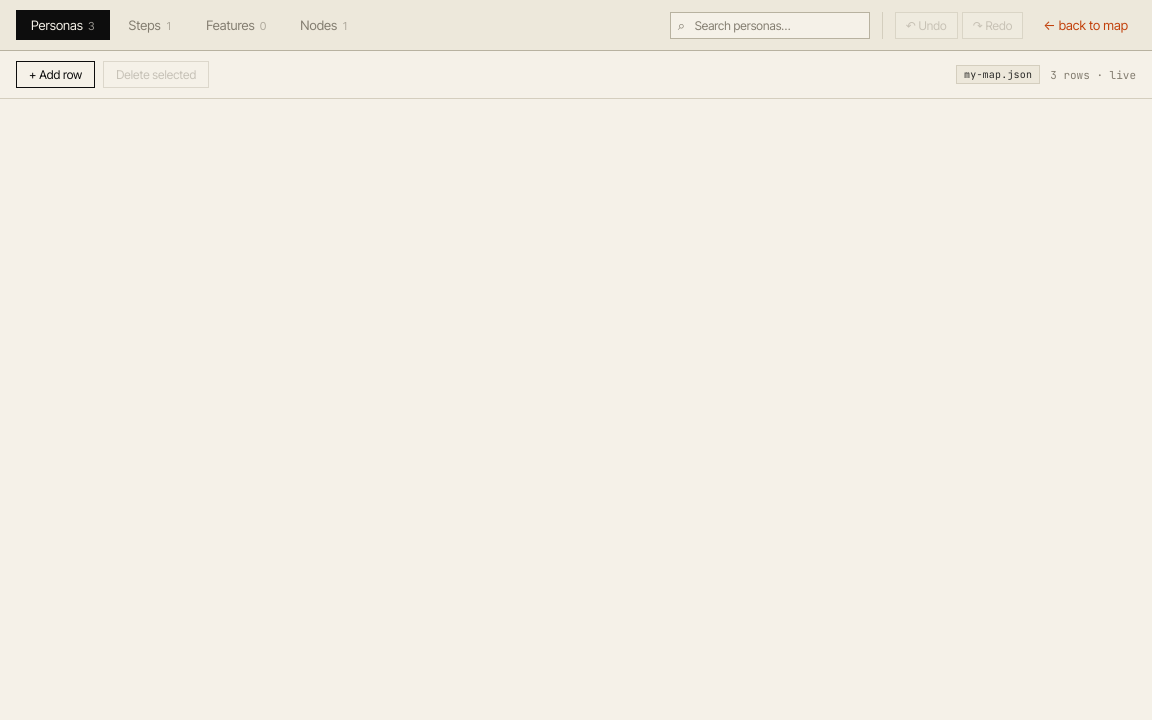
Test case: DatabasePanel grid search › shows a source chip naming the file each tab edits (map vs features)
Check: the text titled "written to my-map.json" is shown, box [956,65,1040,84]
Note: Features → the features datatable
Click the button "Features0": x=236, y=25 [191,10,281,40]
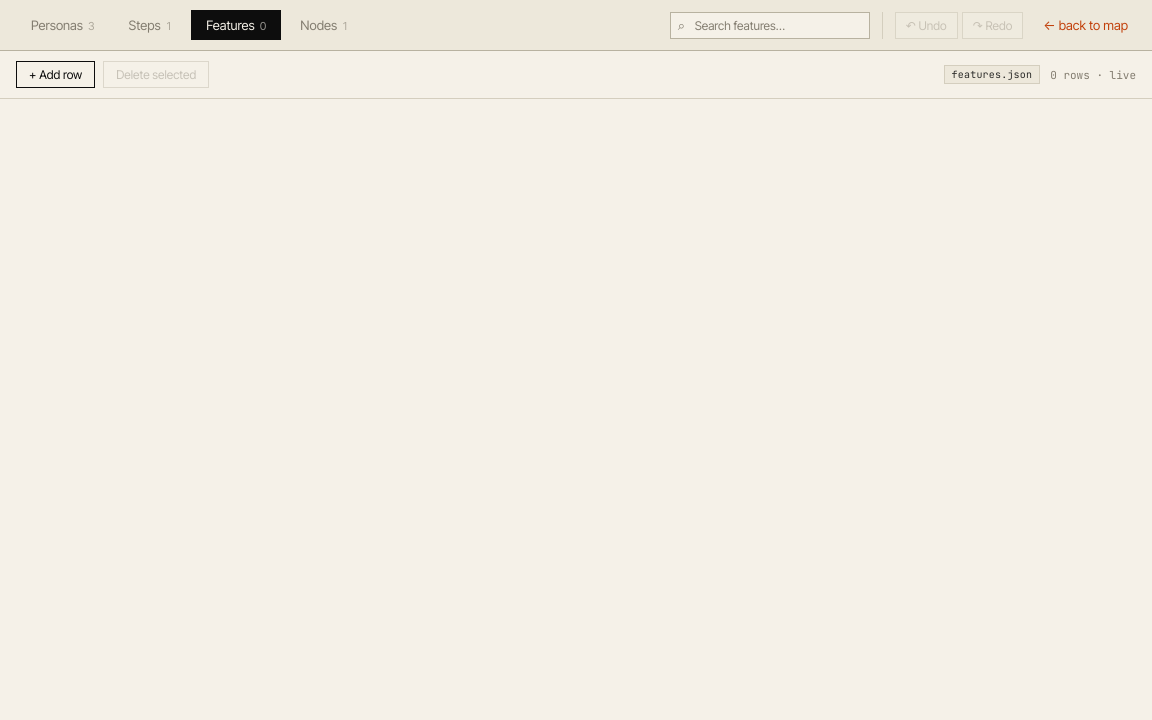
Check: the text titled "written to features.json" is shown, box [944,65,1040,84]
